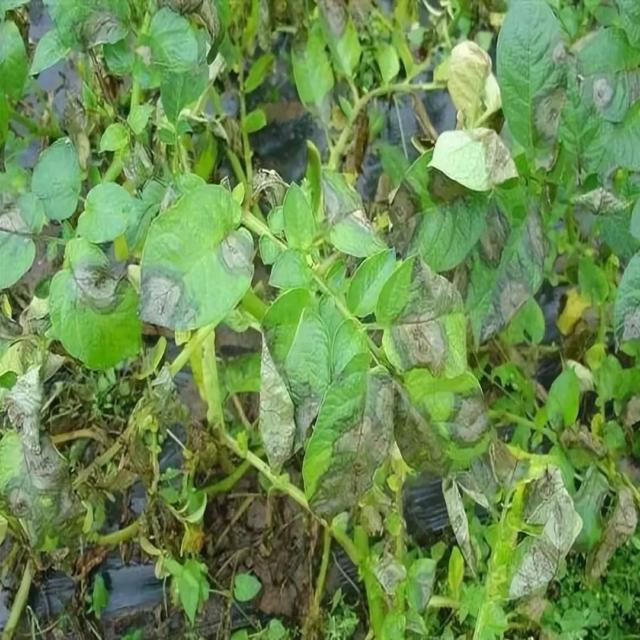Early_blight: (1, 364, 86, 528), (308, 372, 391, 522), (445, 448, 527, 580), (509, 464, 584, 603), (380, 260, 464, 379), (254, 326, 321, 473), (584, 472, 637, 589), (393, 377, 450, 481), (474, 256, 529, 350), (64, 252, 133, 316), (138, 266, 201, 331), (322, 174, 375, 245), (556, 291, 603, 370), (468, 125, 521, 185), (531, 79, 564, 174), (382, 175, 417, 260), (448, 386, 492, 450), (54, 95, 92, 168), (338, 105, 373, 177), (476, 203, 512, 270), (163, 1, 223, 40), (554, 420, 605, 462), (215, 226, 254, 277), (79, 9, 126, 51), (578, 70, 619, 116), (522, 205, 551, 267), (425, 165, 466, 205), (544, 30, 584, 71), (300, 85, 336, 126), (320, 1, 352, 37), (615, 391, 640, 435), (617, 298, 639, 347)
